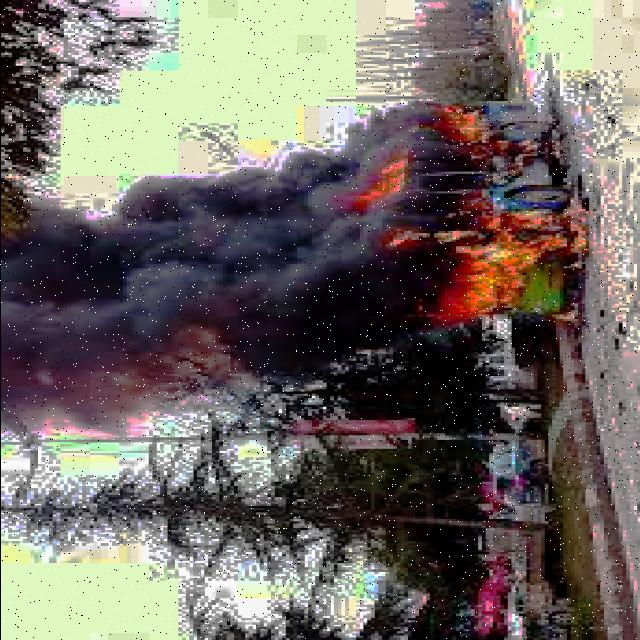api: (397, 199, 608, 335), (382, 98, 490, 162), (331, 151, 427, 215)
